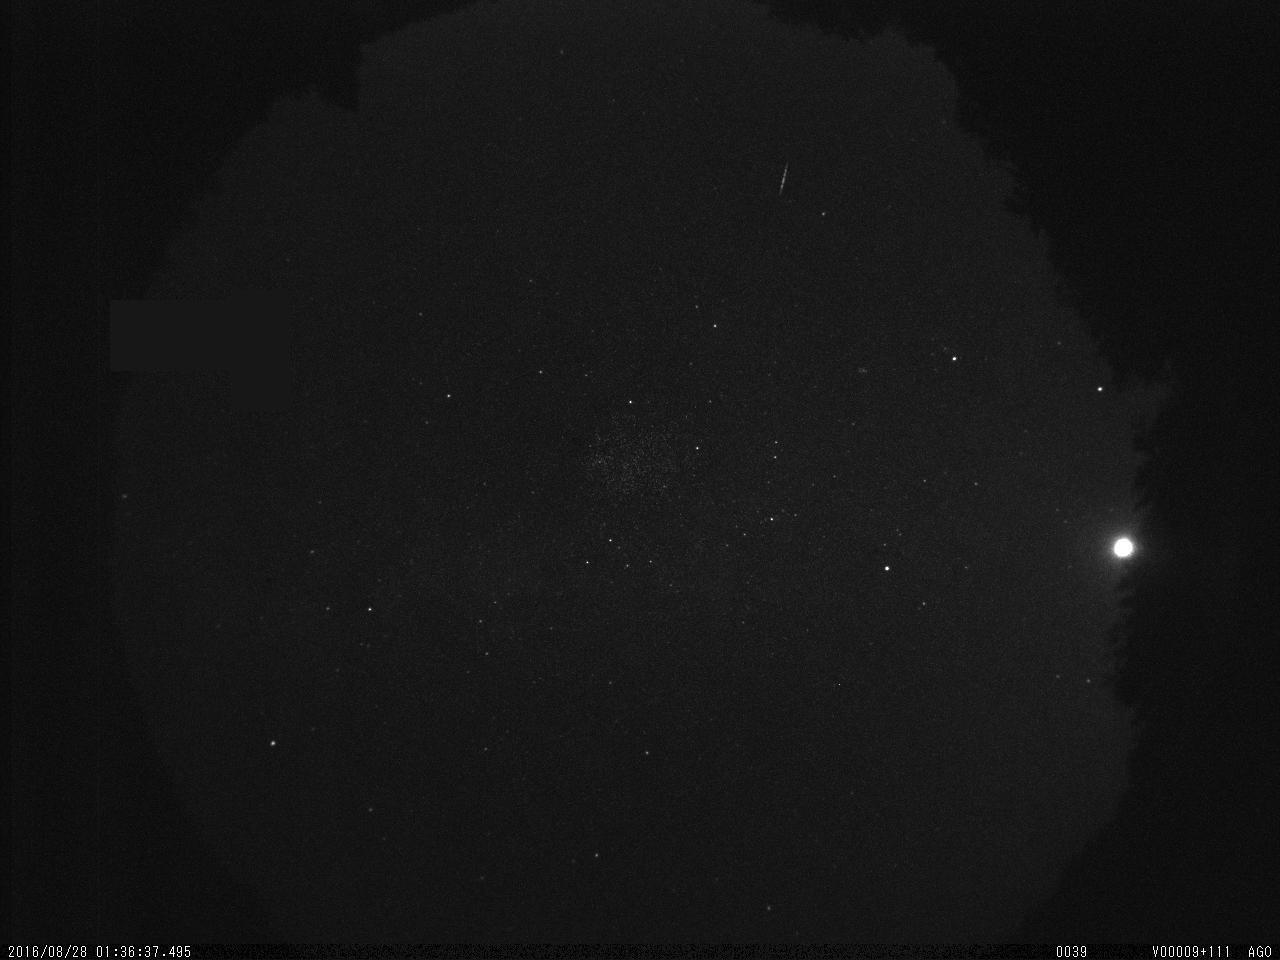meteor: (764, 155, 807, 208)
